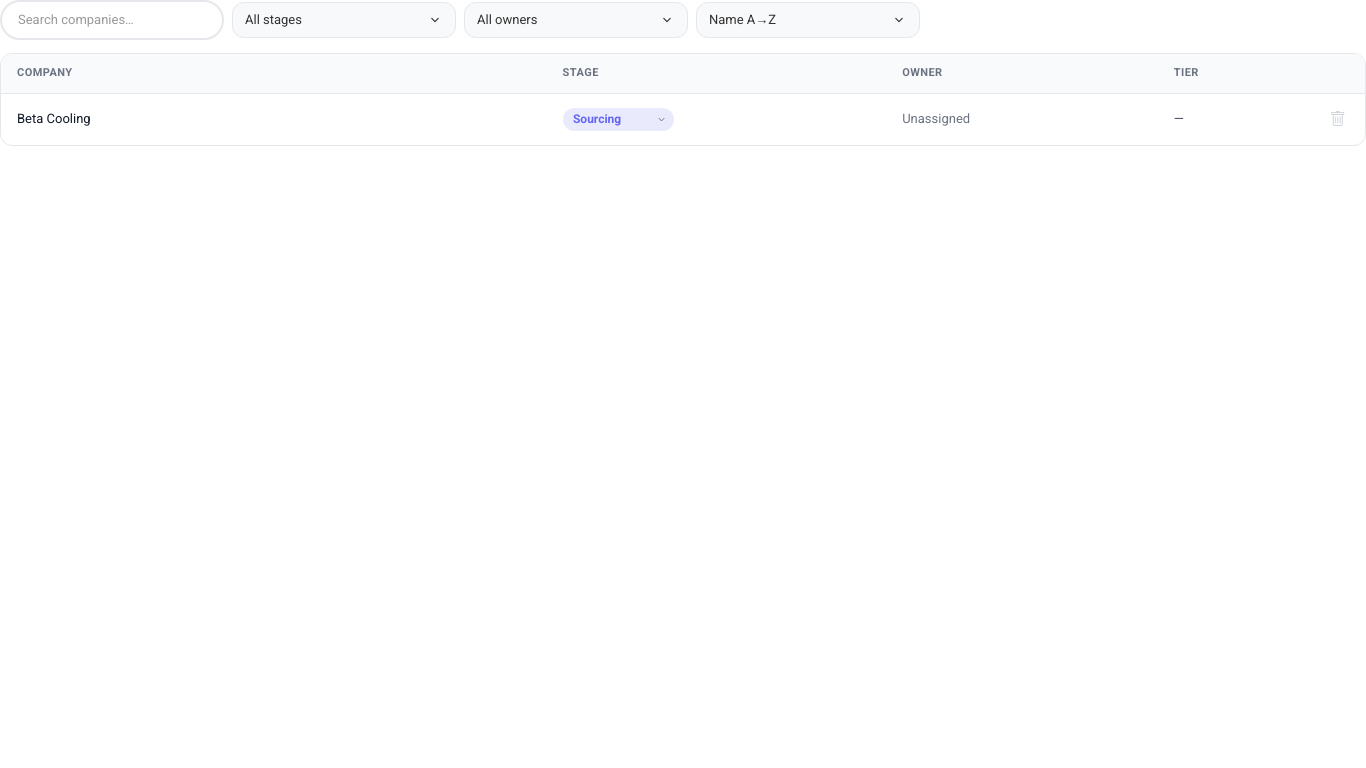
Scenario: PipelineTab › opens a right-side detail drawer with Contacts / Activity / Comments tabs
Click the button "Beta Cooling": (54, 119) 17,110 -> 531,128
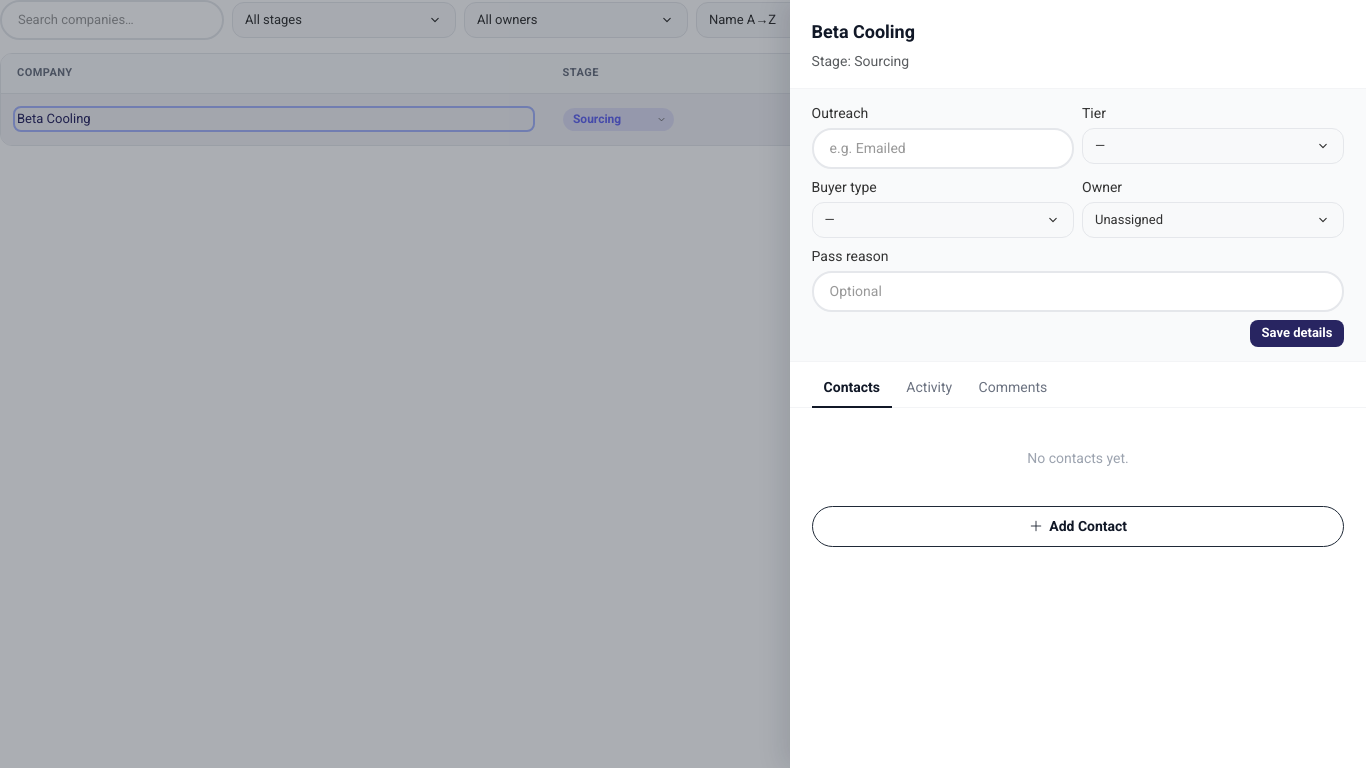
Check: the button "Add Contact" is shown, box 812,506 -> 1344,547
Click the tab "Comments": (1013, 389) 967,371 -> 1059,408
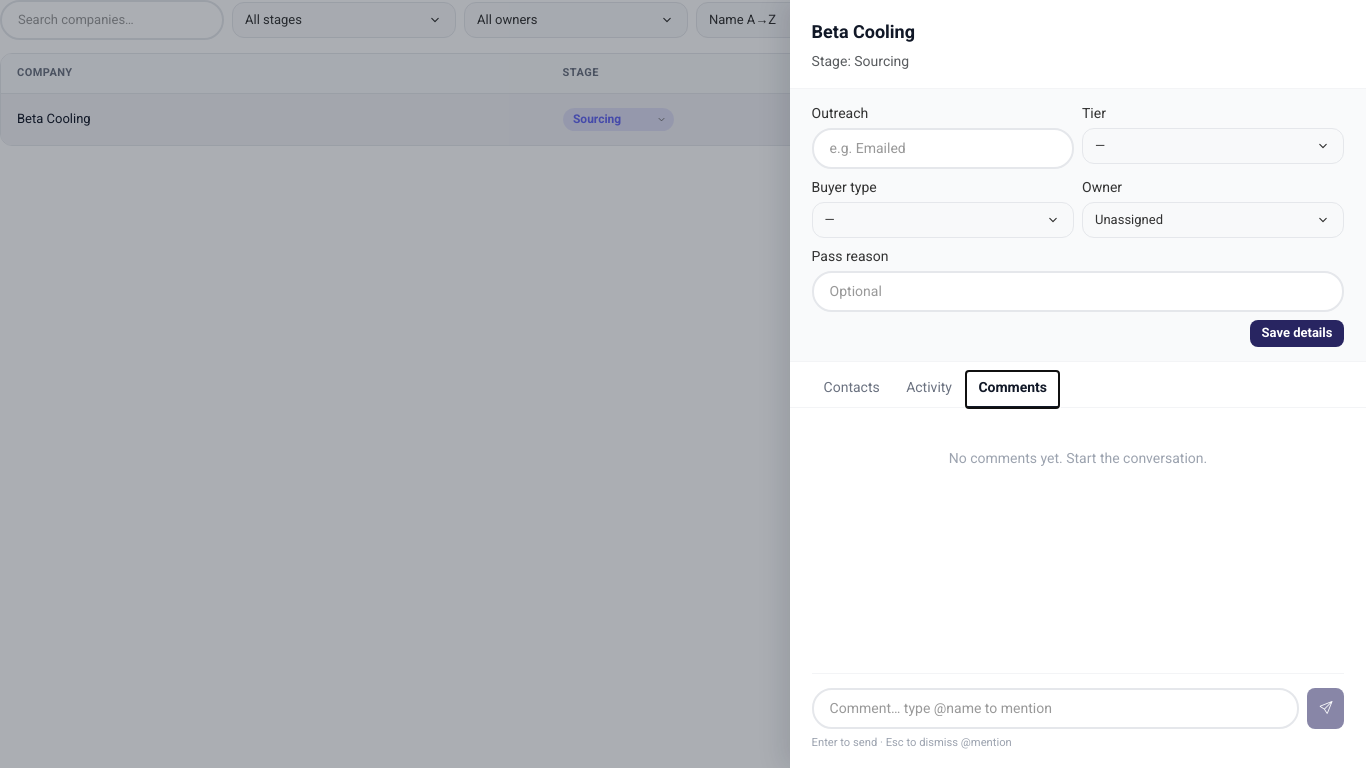
In the field named "add a comment": (1056, 708) 812,688 -> 1299,729, type "Reached out today"
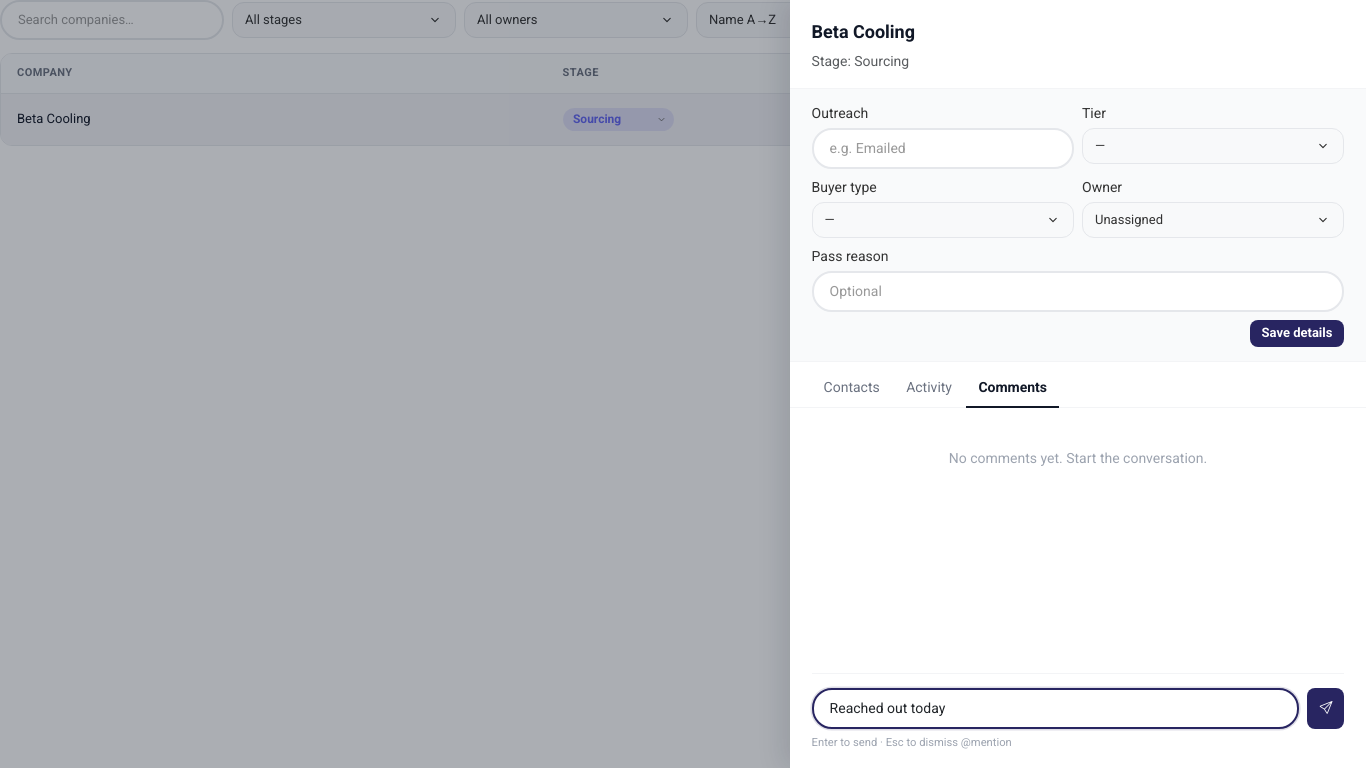
Click the button named "post comment": (1326, 708) 1307,688 -> 1344,729
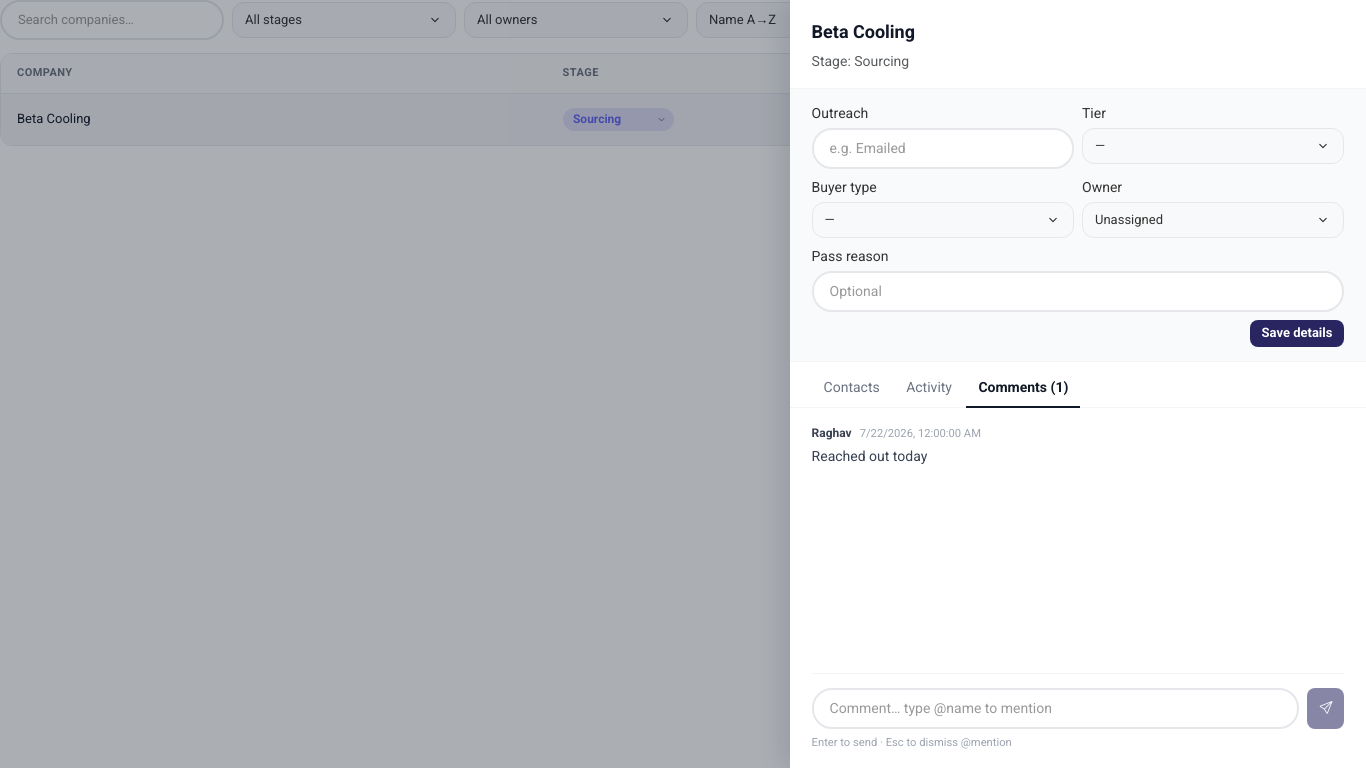
Check: the text "Reached out today" is shown, box 812,448 -> 927,464
